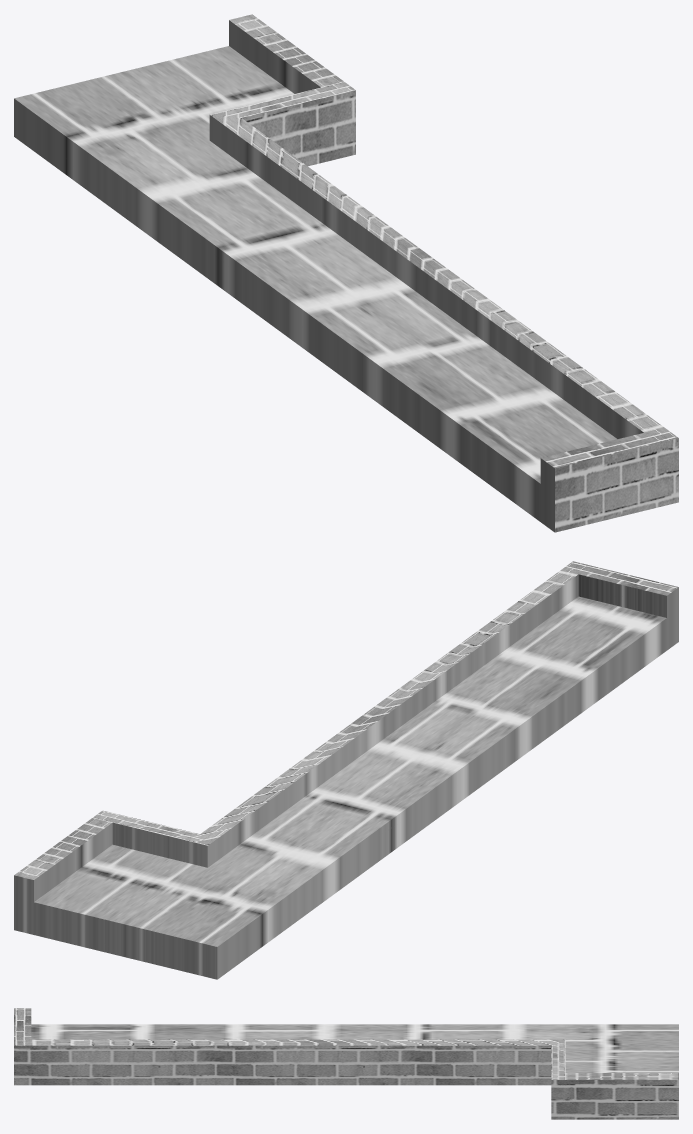
The model's file is garden.obj.
3 renders of one model, top to bottom at view 1: azimuth 30°, elevation 25°; view 2: azimuth 150°, elevation 25°; view 3: azimuth 270°, elevation 25°, orthographic. The views are drawn at different scales.
Parts seen in each view (by area): view 1: garden2:pCube21 group62; view 2: garden2:pCube21 group62; view 3: garden2:pCube21 group62.
Boxes of the visible parts, left/top/right/bottom form: garden2:pCube21 group62: left=14, top=14, right=678, bottom=532; garden2:pCube21 group62: left=14, top=561, right=678, bottom=979; garden2:pCube21 group62: left=14, top=1008, right=678, bottom=1119.
Size of the model in its own units: 89.04 by 22.95 by 350.
